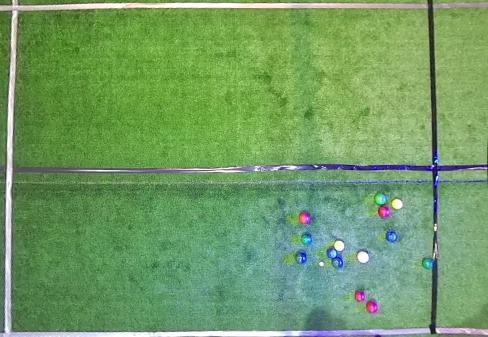blue: (385, 231, 398, 242), (326, 248, 338, 258)
green: (374, 193, 387, 205), (331, 257, 343, 268), (422, 258, 434, 269), (301, 234, 312, 245), (295, 253, 307, 263)
red: (366, 301, 378, 314), (299, 212, 311, 224), (378, 206, 390, 218), (357, 251, 369, 263), (355, 291, 365, 302)
vline: (427, 0, 487, 336), (0, 0, 19, 336)
white: (319, 262, 324, 266)
yellow: (392, 198, 403, 209), (334, 240, 344, 251)
